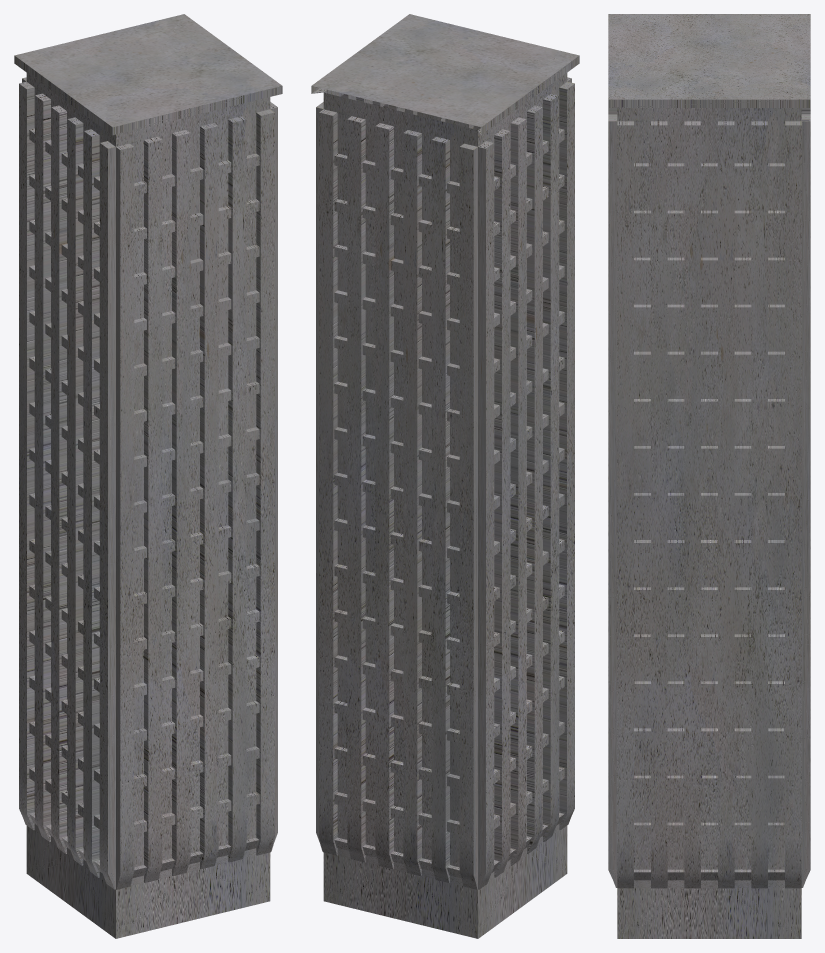
File: building2.FBX
3 renders of one model, left to right at view 1: azimuth 30°, elevation 25°; view 2: azimuth 150°, elevation 25°; view 3: azimuth 270°, elevation 25°, orthographic. The views are drawn at different scales.
Visible parts, largest first — view 1: Box022, Box023, Roof004, Box025; view 2: Box024, Box023, Roof004, Box025; view 3: Box025, Roof004, Box022, Box024.
Part boxes in pixels (<box>): Box022: <box>116,97,274,938</box>; Box023: <box>19,73,115,938</box>; Roof004: <box>14,14,282,135</box>; Box025: <box>270,102,277,850</box>; Box024: <box>319,92,477,938</box>; Box023: <box>478,73,574,938</box>; Roof004: <box>311,14,579,134</box>; Box025: <box>316,90,412,850</box>; Box025: <box>617,108,801,938</box>; Roof004: <box>608,14,810,107</box>; Box022: <box>608,108,617,887</box>; Box024: <box>801,108,810,887</box>.
Bounding box in the file's own units: 1.1 × 5.05 × 1.1.
1 material, 1 textured.
